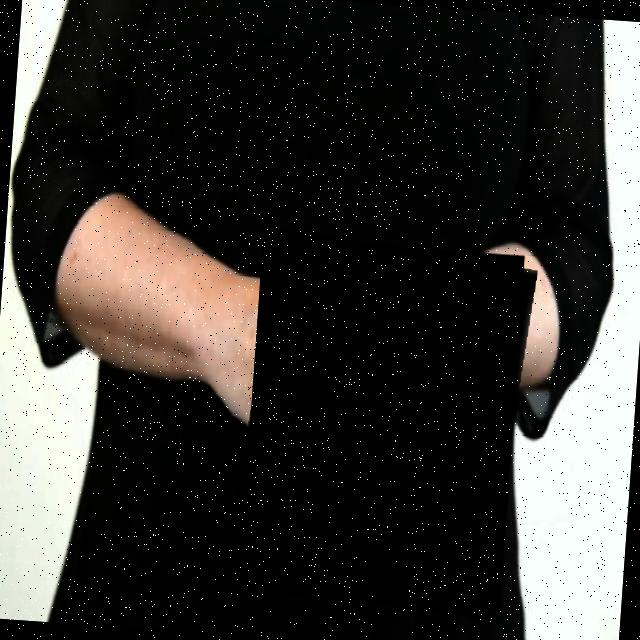M: (232, 234, 533, 616)
